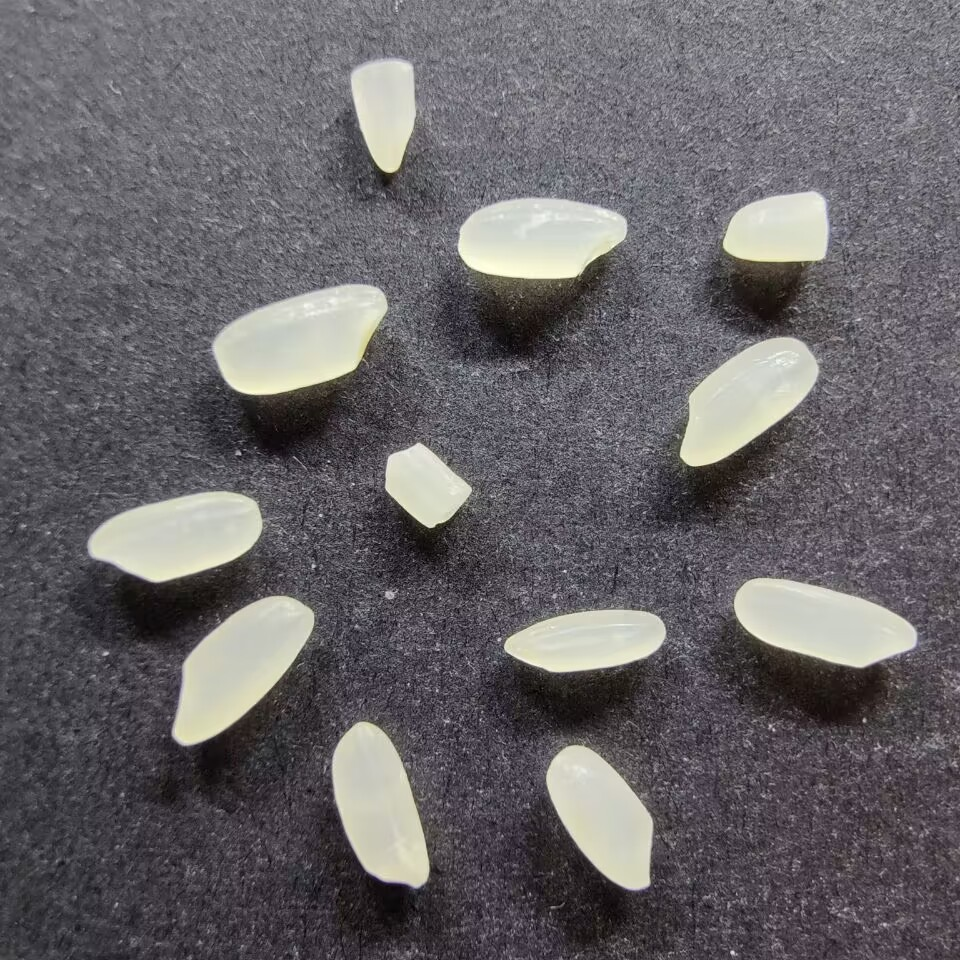broken: (380, 440, 474, 530), (347, 57, 417, 176), (720, 190, 830, 263)
rice: (170, 594, 316, 747), (214, 281, 387, 396), (678, 335, 819, 467), (330, 719, 431, 890), (734, 576, 918, 669), (545, 742, 656, 894), (86, 490, 262, 583), (455, 196, 628, 280), (503, 606, 668, 673)
